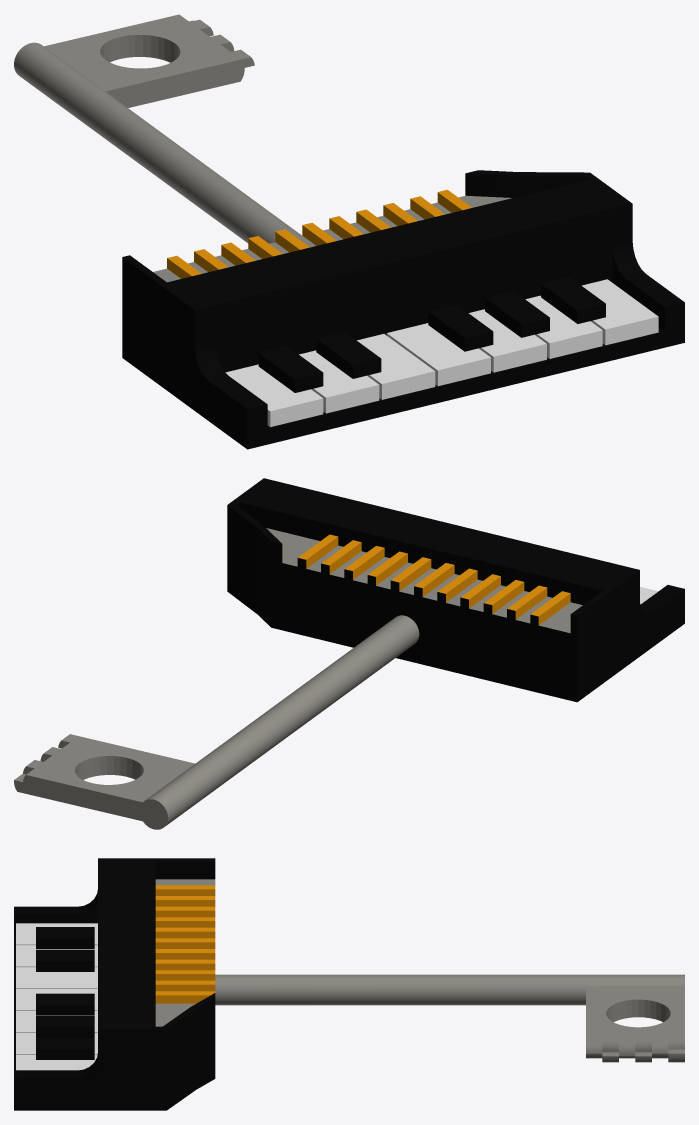
The model's file is PianoKey.fbx.
3 views of the same model, one above another, from view 1: azimuth 30°, elevation 25°; view 2: azimuth 150°, elevation 25°; view 3: azimuth 270°, elevation 25° (orthographic). The views are drawn at different scales.
Parts seen in each view (by area): view 1: Base.003; view 2: Base.003; view 3: Base.003.
Part boxes in pixels (x1=…): Base.003: x1=14, y1=14, x2=684, y2=449; Base.003: x1=14, y1=478, x2=684, y2=829; Base.003: x1=14, y1=858, x2=684, y2=1110.
Size of the model in its own units: 323 by 71.17 by 534.
